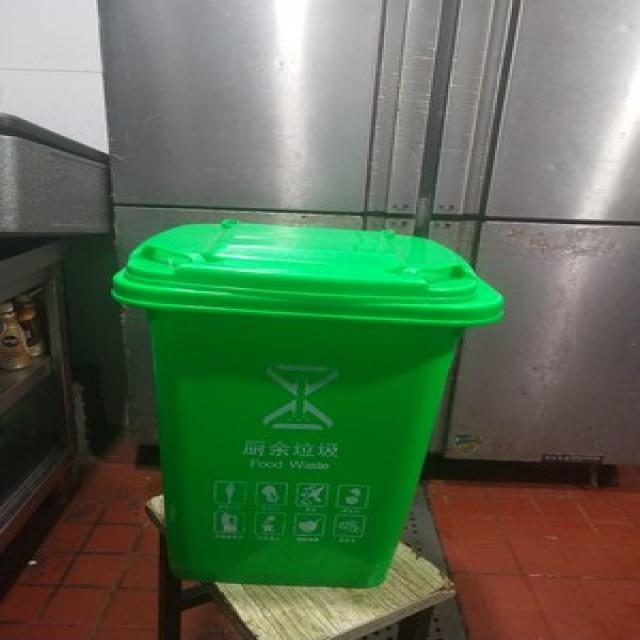ash bin: (109, 218, 503, 586)
